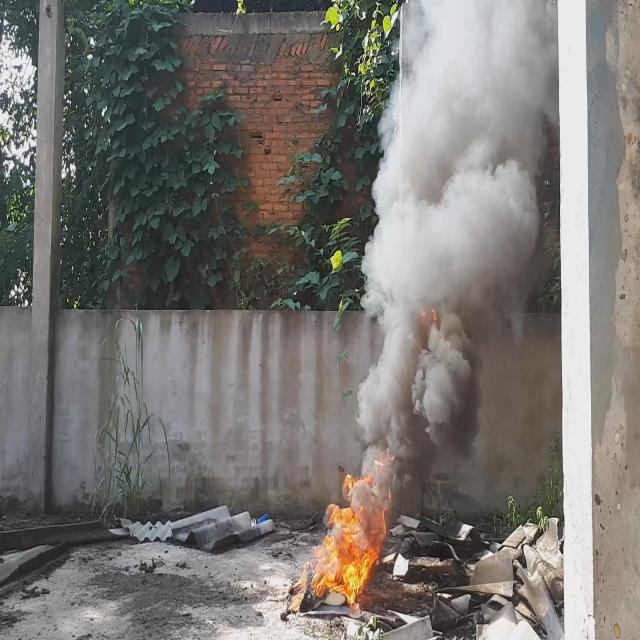Fire: (309, 468, 392, 604)
Smoke: (352, 0, 556, 532)
